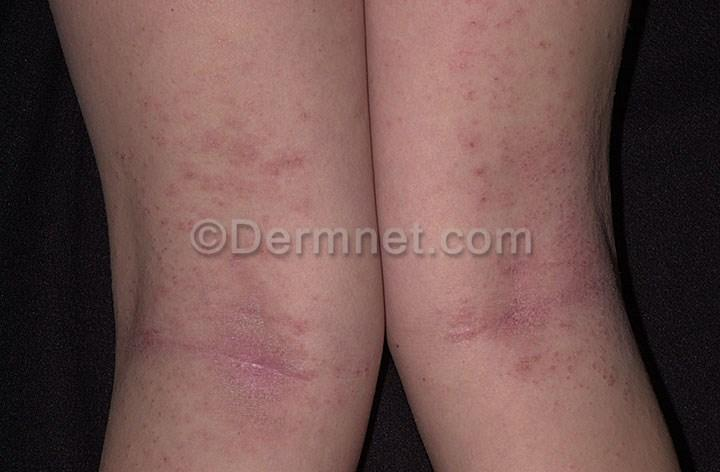Eritema 2: (144, 322, 314, 399), (441, 268, 609, 339)
xerosis 2: (492, 294, 563, 331)
